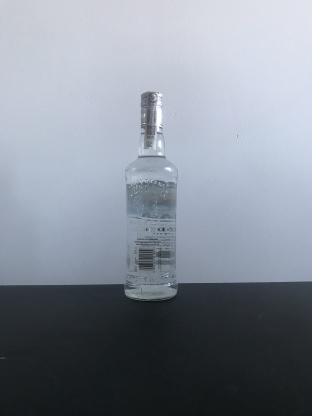nakretka: (138, 88, 165, 131)
